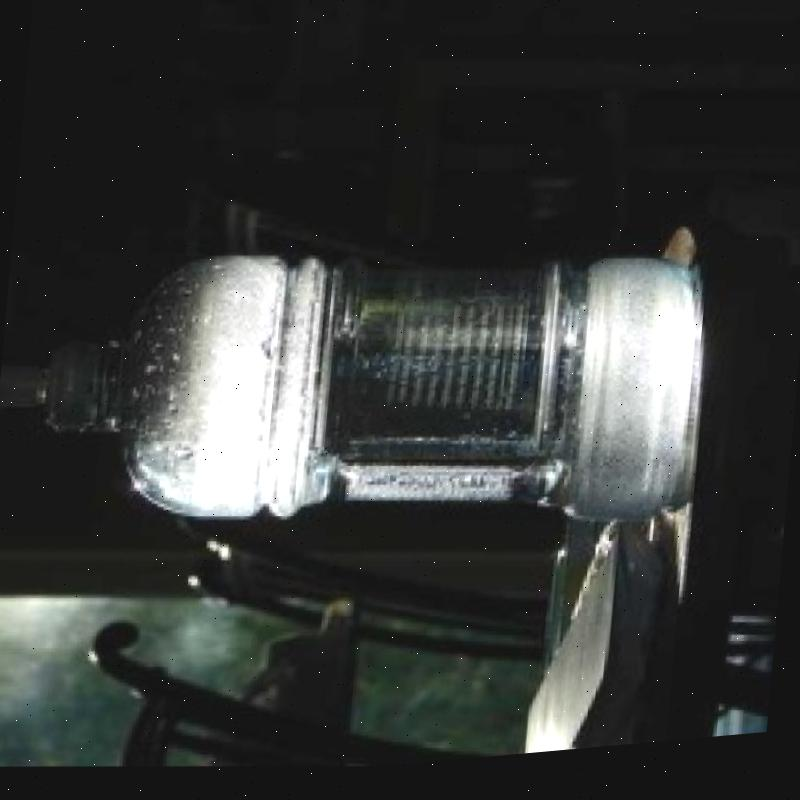botella: (21, 196, 717, 575)
